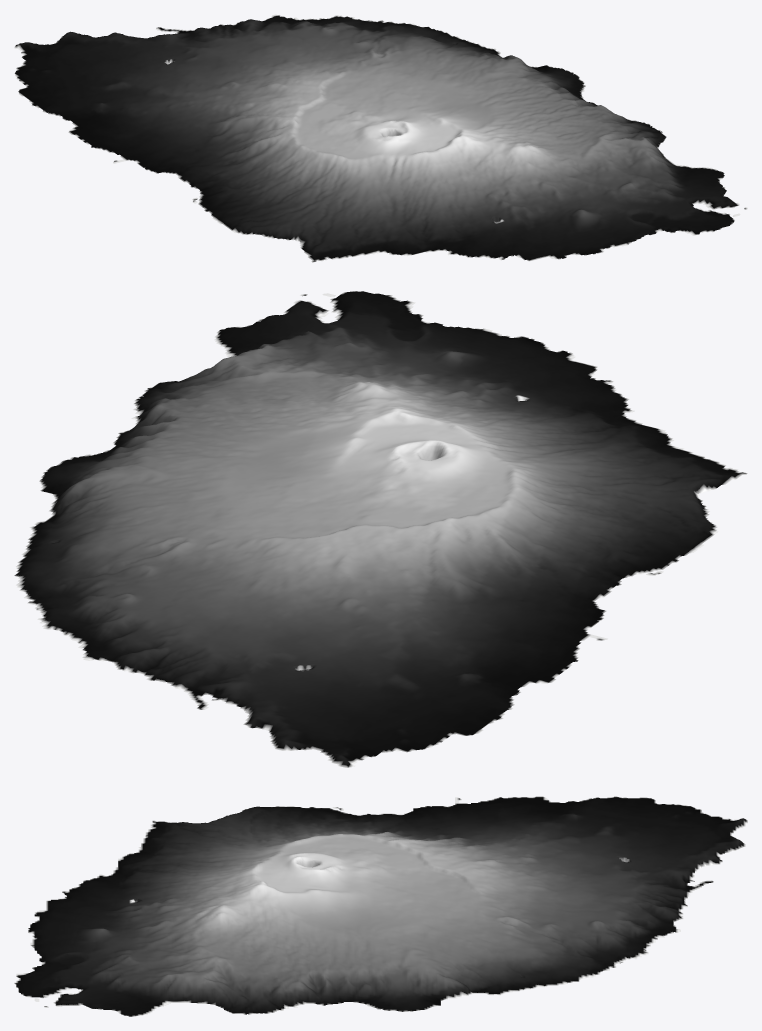
The model's file is oshima.glb.
3 renders of one model, top to bottom at view 1: azimuth 30°, elevation 25°; view 2: azimuth 150°, elevation 25°; view 3: azimuth 270°, elevation 25°, orthographic. The views are drawn at different scales.
Visible parts, largest first — view 1: oshima-3; view 2: oshima-3; view 3: oshima-3.
Part boxes in pixels (<box>): oshima-3: <box>14,14,747,262</box>; oshima-3: <box>14,291,747,767</box>; oshima-3: <box>14,796,747,1016</box>.
Bounding box in the file's own units: 9474 × 747 × 13332.
1 material, 1 textured.
